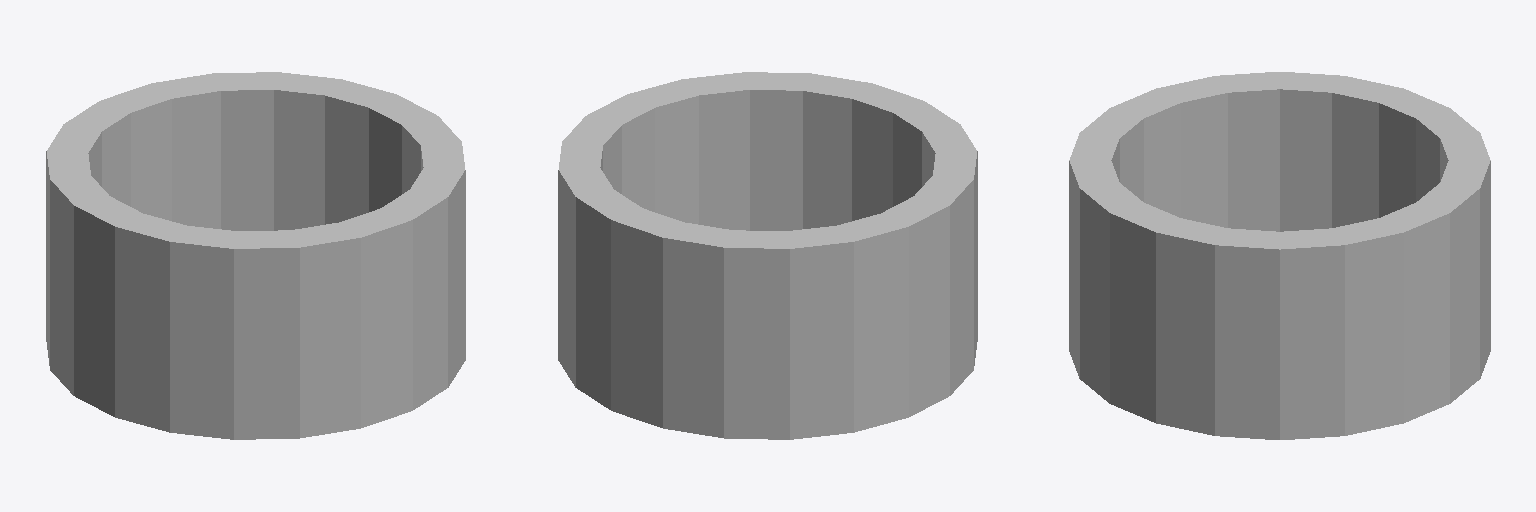
Rendered from whiteCircle2.obj.
3 views of the same model, side by side, from view 1: azimuth 30°, elevation 25°; view 2: azimuth 150°, elevation 25°; view 3: azimuth 270°, elevation 25° (orthographic).
Parts seen in each view (by area): view 1: pPipe4; view 2: pPipe4; view 3: pPipe4.
Part boxes in pixels (x1,y1,x2,y2): pPipe4: (46, 72, 465, 439); pPipe4: (558, 72, 977, 439); pPipe4: (1069, 72, 1490, 439).
Size of the model in its own units: 2 by 1 by 2.